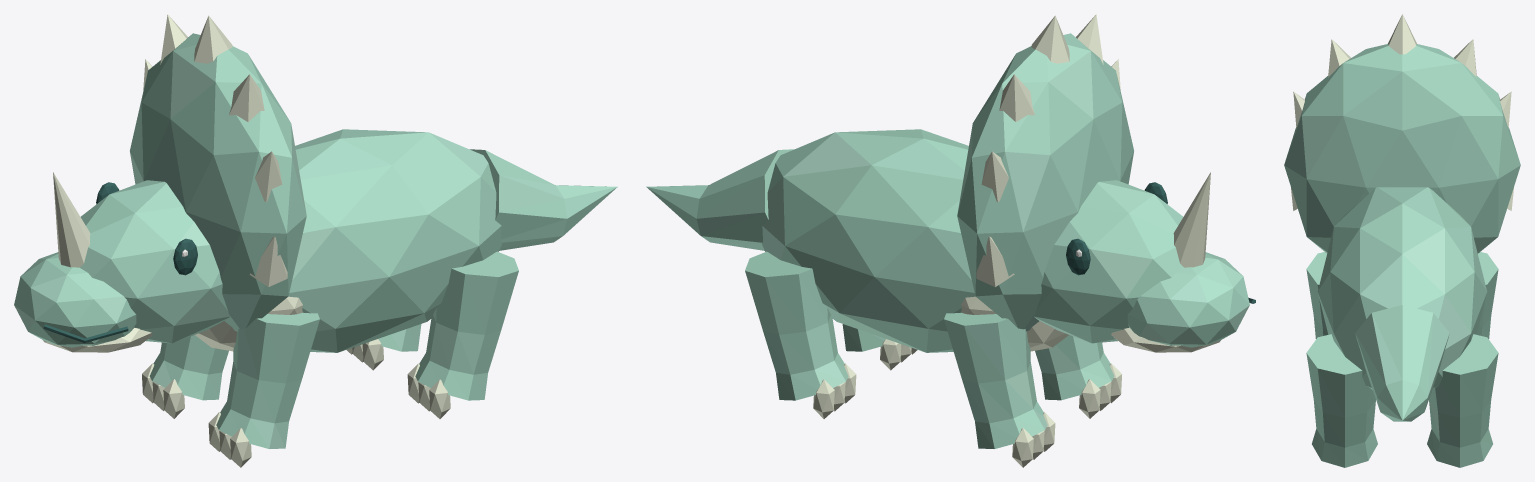
Rendered from styracosaurus.glb.
3 views of the same model, side by side, from view 1: azimuth 30°, elevation 25°; view 2: azimuth 150°, elevation 25°; view 3: azimuth 270°, elevation 25° (orthographic). The views are drawn at different scales.
Parts seen in each view (by area): view 1: Body, Neck frill, Head, Rounded leg.002, Rounded leg, Soft muzzle, Tail, Rounded leg.001, Nose horn, Ivory chest, Frill crown.002, Frill crown.003 (+8 smaller); view 2: Body, Neck frill, Head, Rounded leg.003, Rounded leg.001, Soft muzzle, Tail, Rounded leg, Nose horn, Ivory chest, Frill crown.004, Frill crown.003 (+8 smaller); view 3: Neck frill, Body, Tail, Rounded leg.002, Rounded leg.003, Rounded leg, Rounded leg.001, Frill crown.003, Frill crown.002, Frill crown.004.
Boxes of the visible parts, x1=… form: Body: x1=288, y1=129, x2=502, y2=352; Neck frill: x1=130, y1=33, x2=306, y2=331; Head: x1=80, y1=180, x2=229, y2=343; Rounded leg.002: x1=415, y1=251, x2=518, y2=400; Rounded leg: x1=216, y1=312, x2=319, y2=448; Soft muzzle: x1=14, y1=252, x2=136, y2=347; Tail: x1=470, y1=149, x2=617, y2=250; Rounded leg.001: x1=149, y1=335, x2=228, y2=400; Nose horn: x1=53, y1=172, x2=90, y2=267; Ivory chest: x1=195, y1=296, x2=302, y2=351; Frill crown.002: x1=229, y1=74, x2=264, y2=121; Frill crown.003: x1=194, y1=15, x2=232, y2=63; Body: x1=761, y1=129, x2=975, y2=352; Neck frill: x1=957, y1=33, x2=1133, y2=331; Head: x1=1034, y1=180, x2=1183, y2=343; Rounded leg.003: x1=745, y1=251, x2=848, y2=400; Rounded leg.001: x1=944, y1=312, x2=1047, y2=448; Soft muzzle: x1=1127, y1=252, x2=1249, y2=347; Tail: x1=646, y1=149, x2=793, y2=250; Rounded leg: x1=1035, y1=335, x2=1114, y2=400; Nose horn: x1=1173, y1=172, x2=1210, y2=267; Ivory chest: x1=961, y1=296, x2=1068, y2=351; Frill crown.004: x1=999, y1=74, x2=1035, y2=121; Frill crown.003: x1=1031, y1=15, x2=1069, y2=63; Neck frill: x1=1284, y1=44, x2=1520, y2=253; Body: x1=1317, y1=187, x2=1487, y2=390; Tail: x1=1355, y1=305, x2=1449, y2=421; Rounded leg.002: x1=1306, y1=334, x2=1377, y2=467; Rounded leg.003: x1=1427, y1=334, x2=1498, y2=467; Rounded leg: x1=1306, y1=252, x2=1328, y2=338; Rounded leg.001: x1=1476, y1=252, x2=1498, y2=338; Frill crown.003: x1=1388, y1=14, x2=1416, y2=54; Frill crown.002: x1=1328, y1=39, x2=1350, y2=77; Frill crown.004: x1=1454, y1=39, x2=1476, y2=77.
Bounding box in the file's own units: 3.7 × 2.48 × 1.48.
